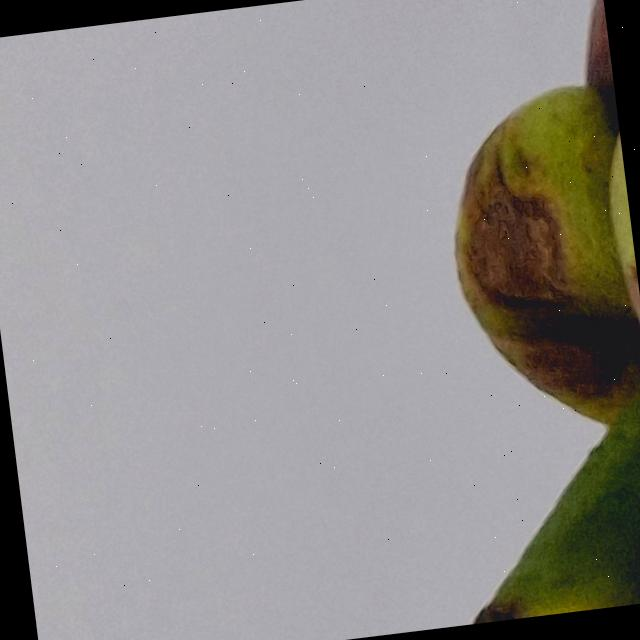mangosteen: (345, 0, 640, 629)
